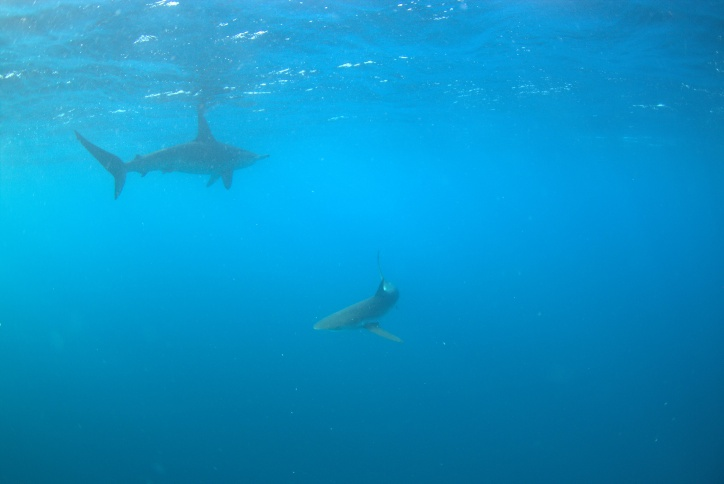Sedoso: (298, 248, 419, 343)
